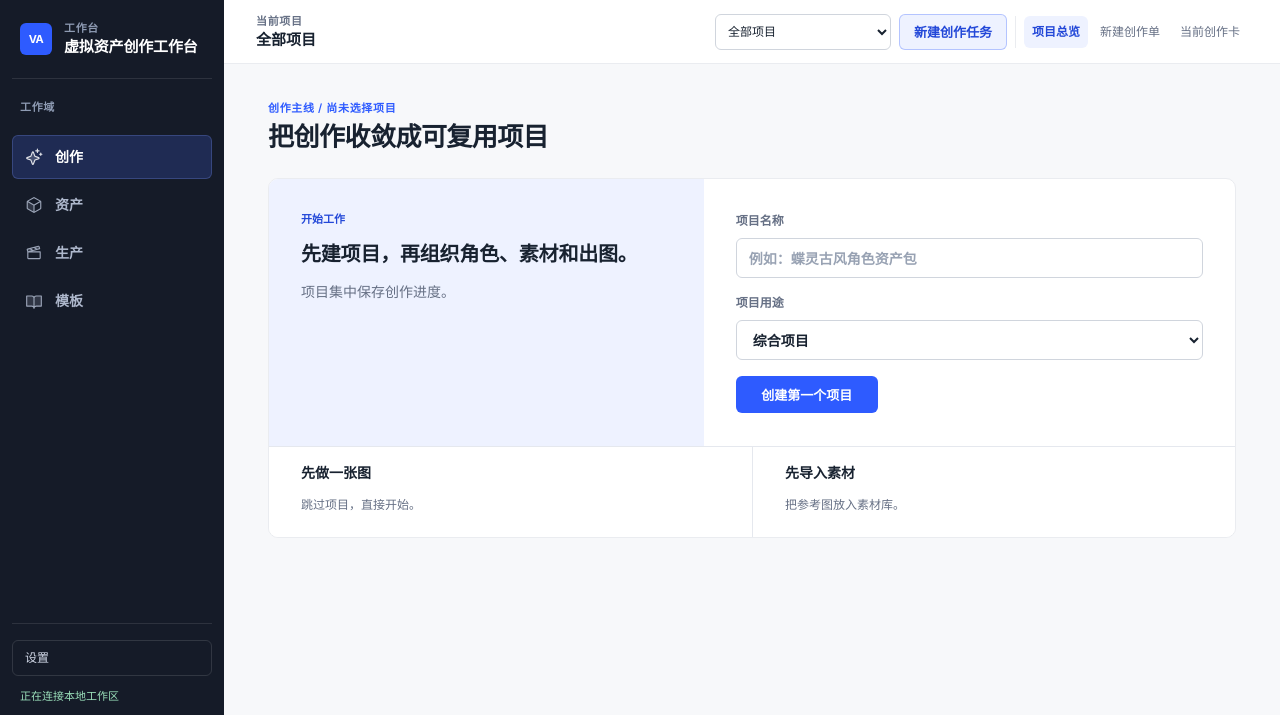
Test: 重启中断的图片任务可在队列确认重试，并在新任务关联后隐藏重复入口
Click the button "生产".
click(112, 253)  # box [12, 231, 212, 275]
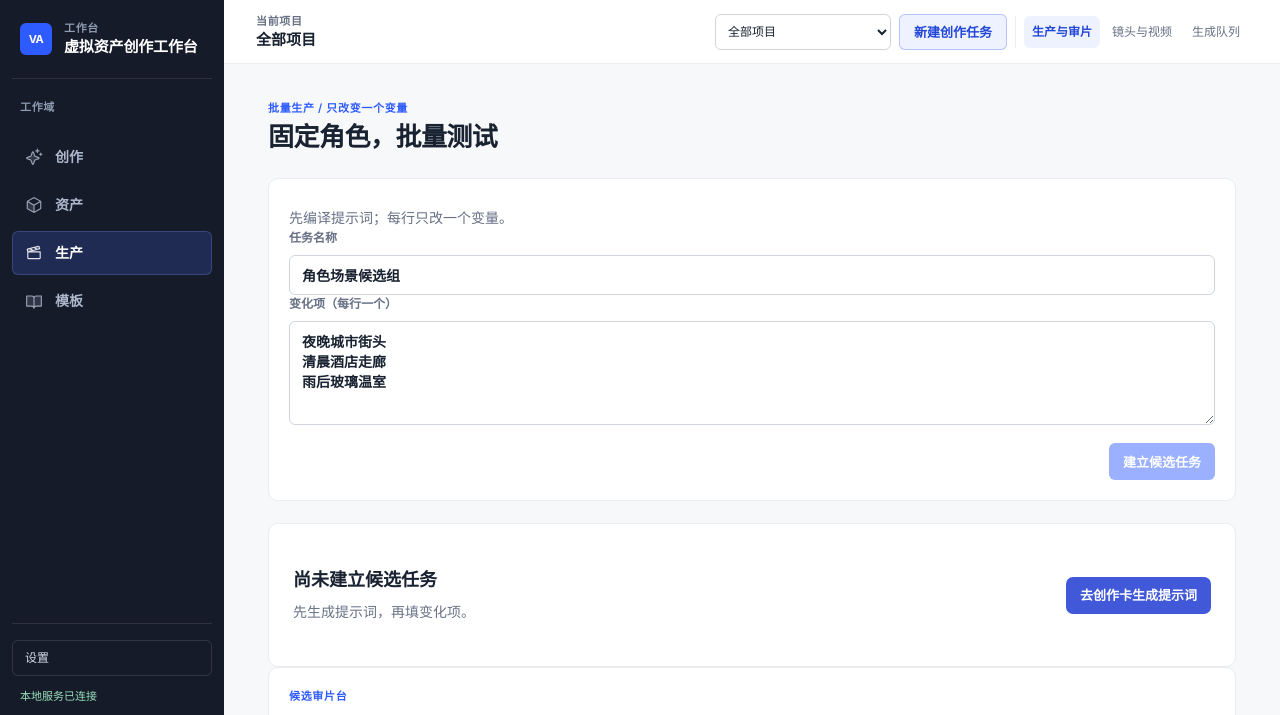
Click the button "生成队列".
click(1216, 32)  # box [1184, 16, 1248, 48]
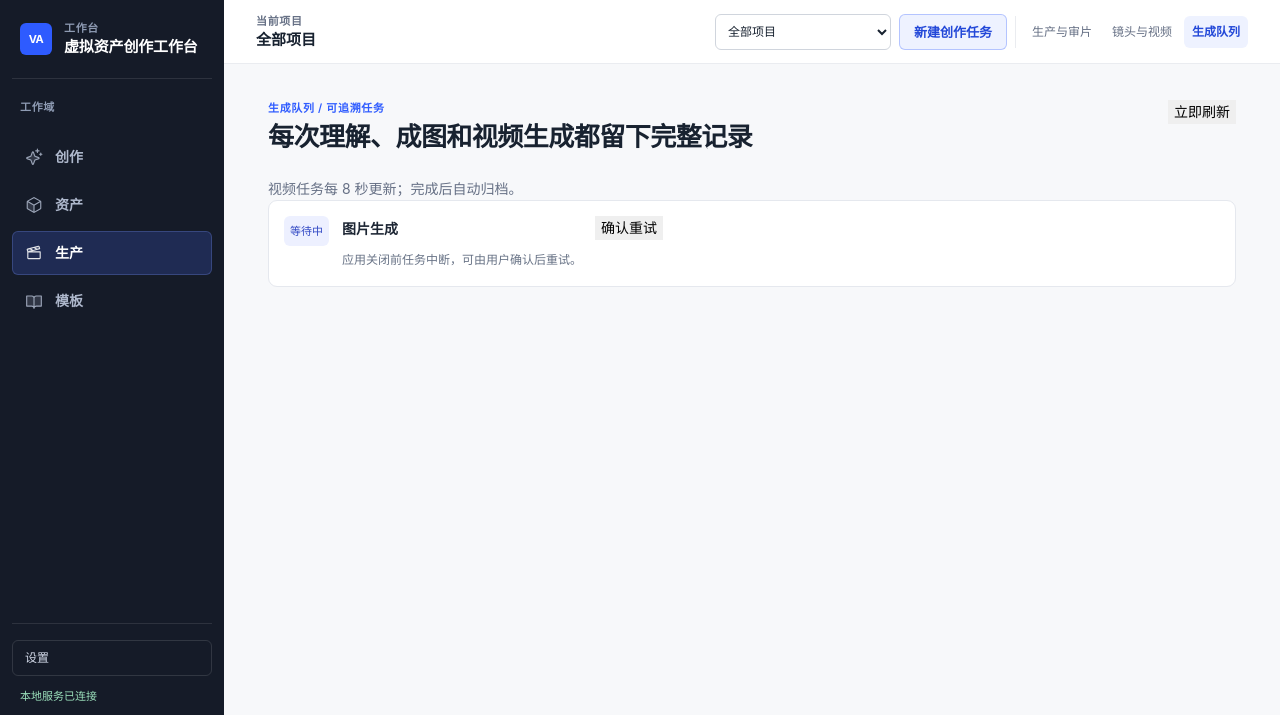
Click the button "确认重试".
click(629, 228)  # box [595, 216, 663, 240]
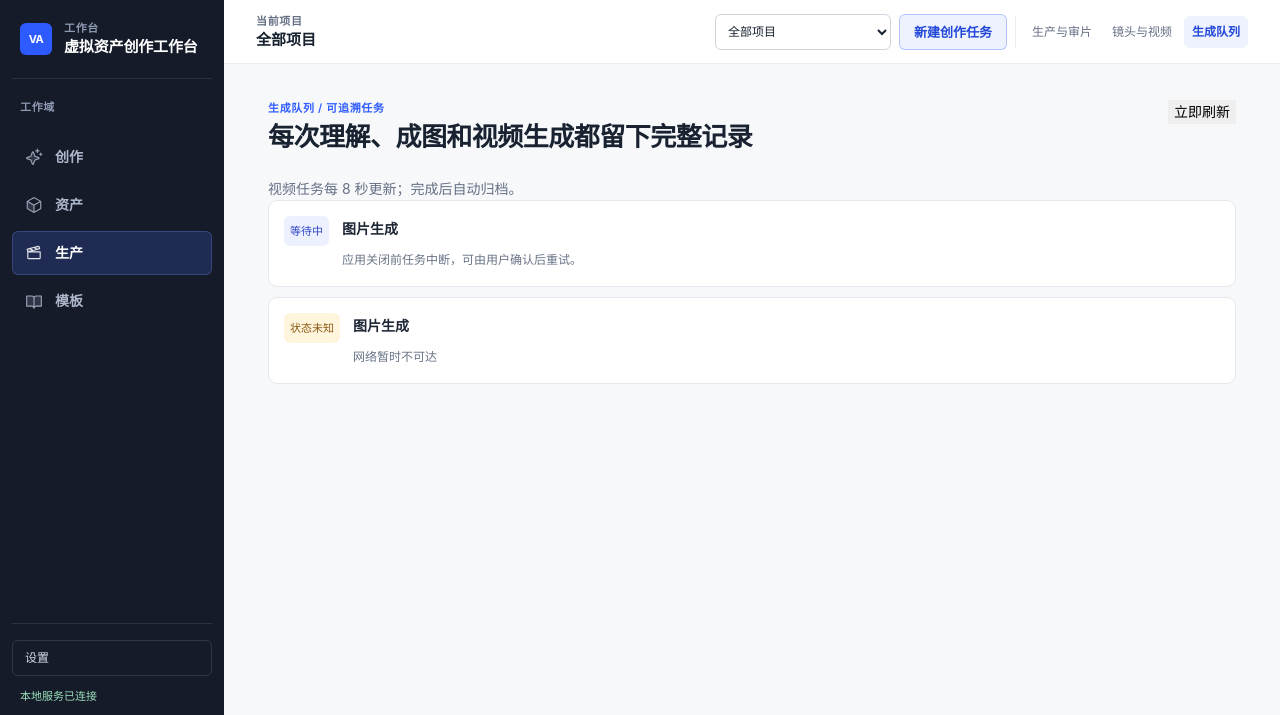
Check: the button "确认重试" is gone
